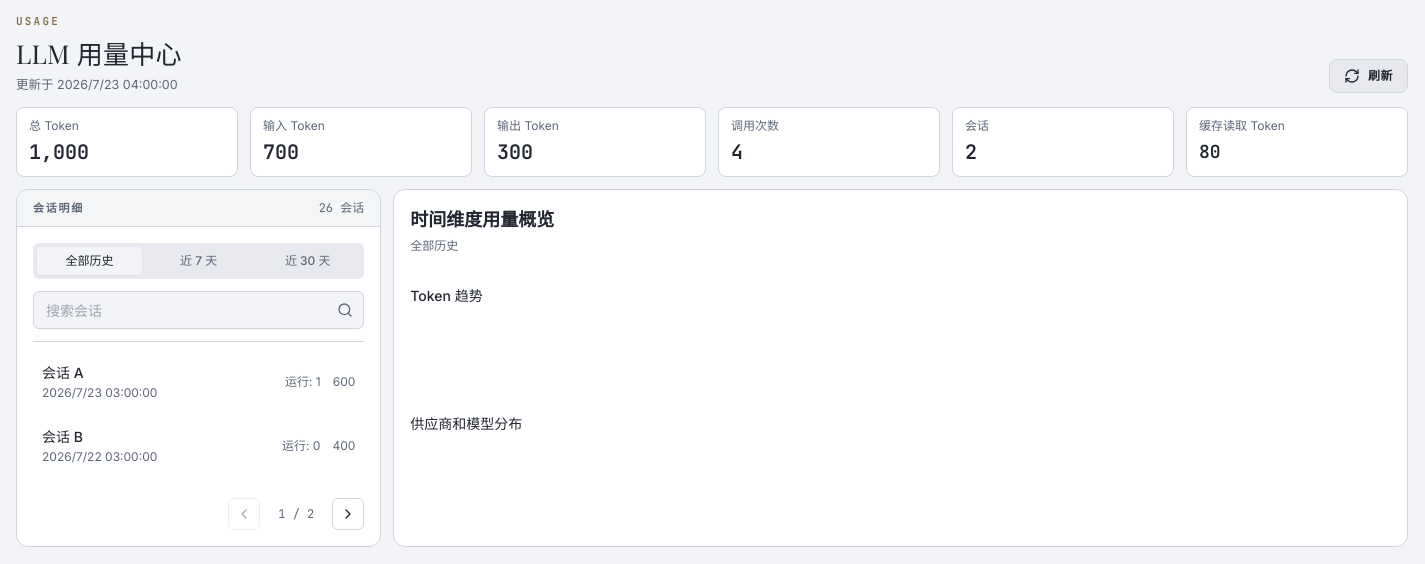
Test: Usage › merges a pending search into the latest range request and ignores the older response
Check: the text "1,000" is shown, box [29,139,89,165]
Type "会话 A" into the search field labelled "搜索会话" at coordinates (181, 310), box [34,292,327,328]
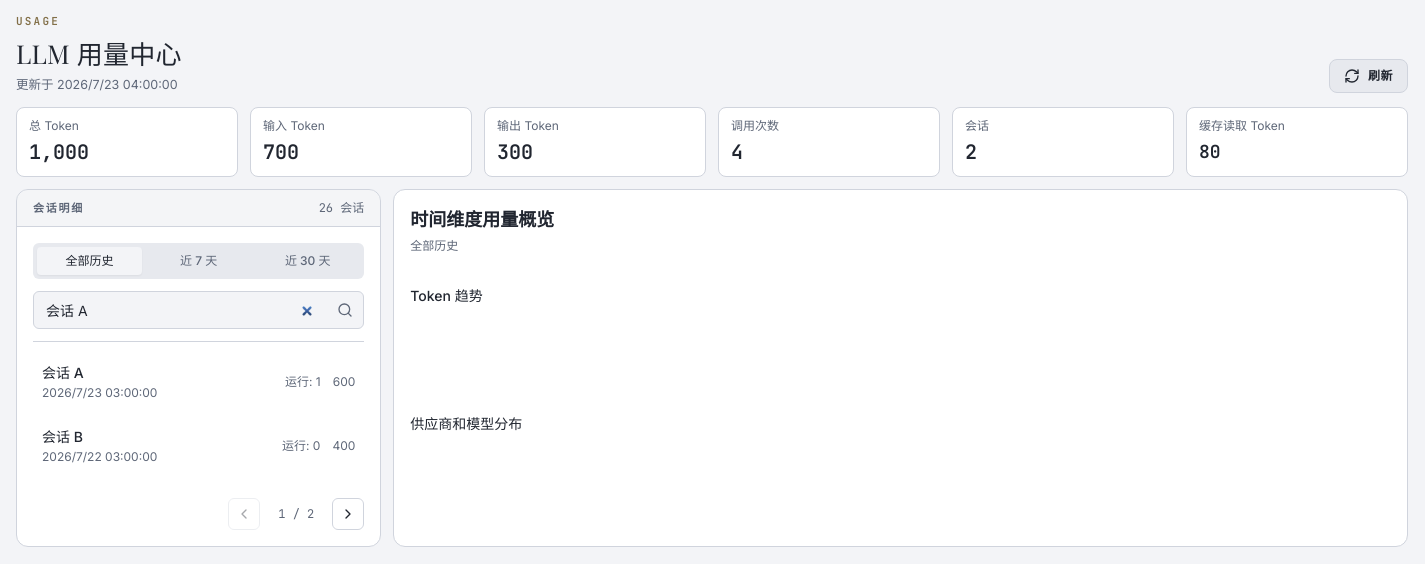
Press Enter
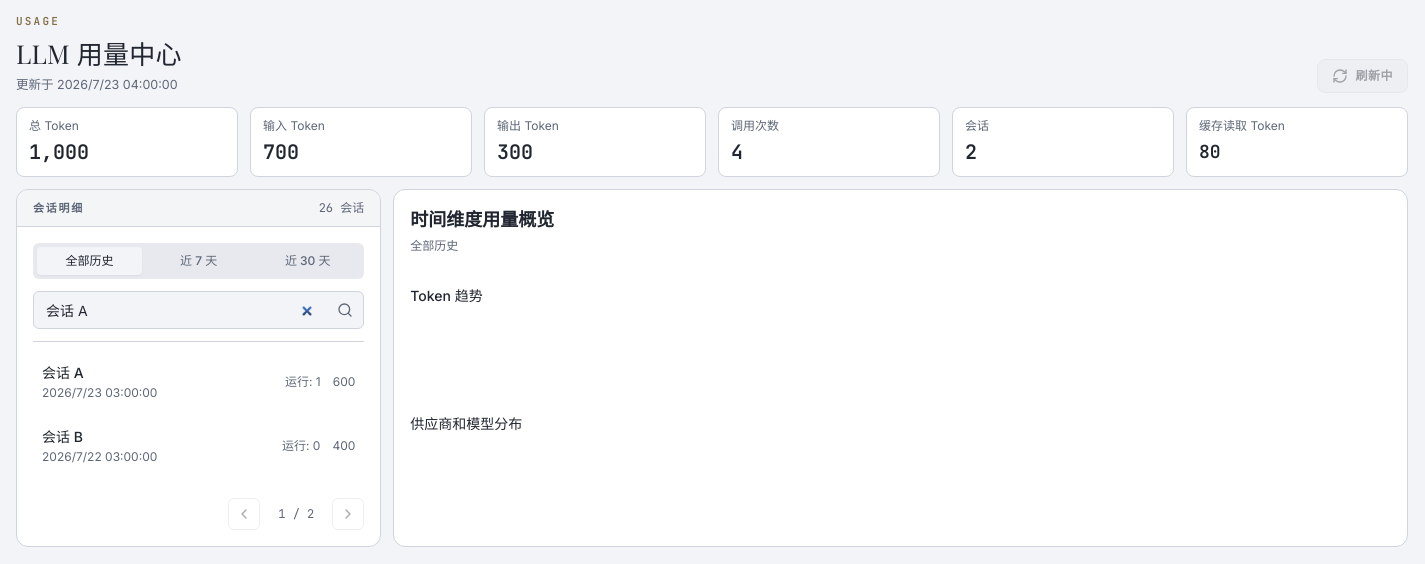
Click the button "近 7 天" at coordinates (199, 261), box [146,247,251,275]
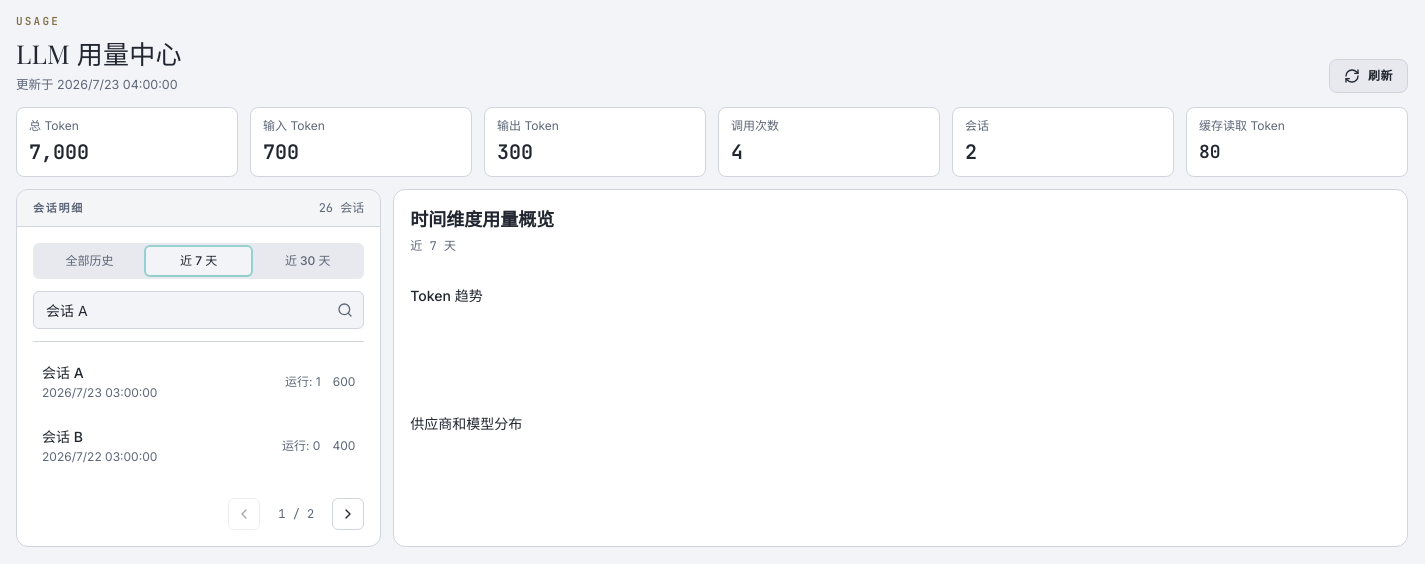
Check: the text "7,000" is shown, box [29,139,89,165]
